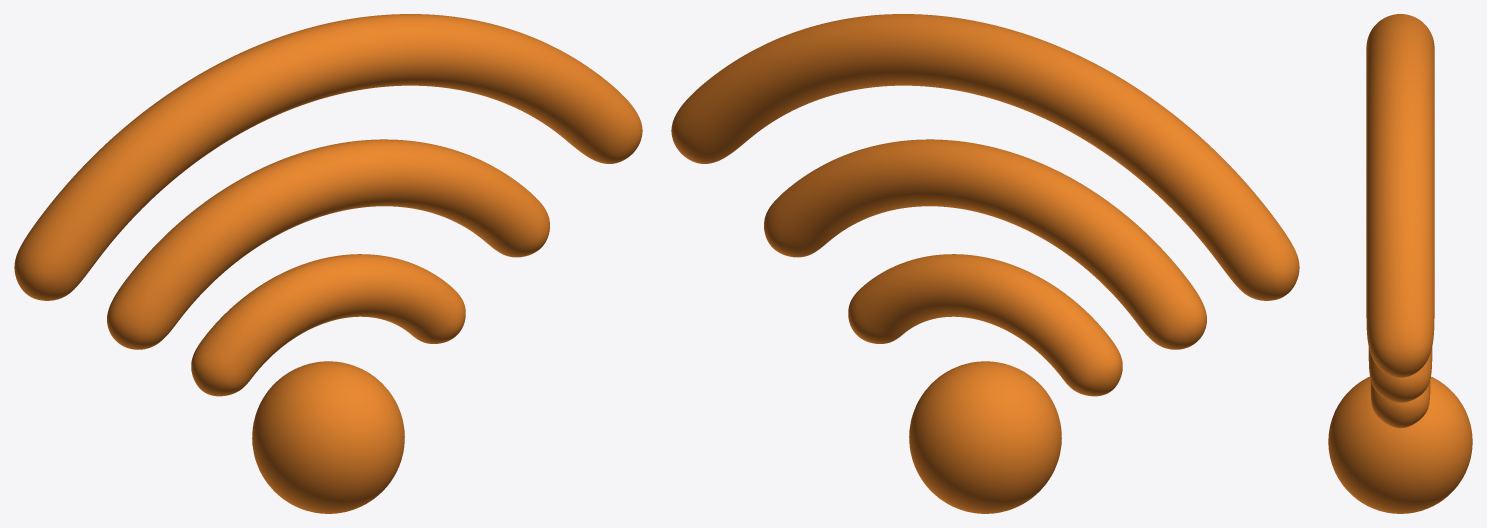
The model's file is wifi.glb.
3 views of the same model, side by side, from view 1: azimuth 30°, elevation 25°; view 2: azimuth 150°, elevation 25°; view 3: azimuth 270°, elevation 25° (orthographic). The views are drawn at different scales.
Visible parts, largest first — view 1: wif; view 2: wif; view 3: wif.
Part boxes in pixels (bbox=[...]): wif: bbox=[14, 14, 642, 513]; wif: bbox=[671, 14, 1299, 513]; wif: bbox=[1328, 14, 1472, 513].
Bounding box in the file's own units: 2.01 × 1.49 × 0.4291.
